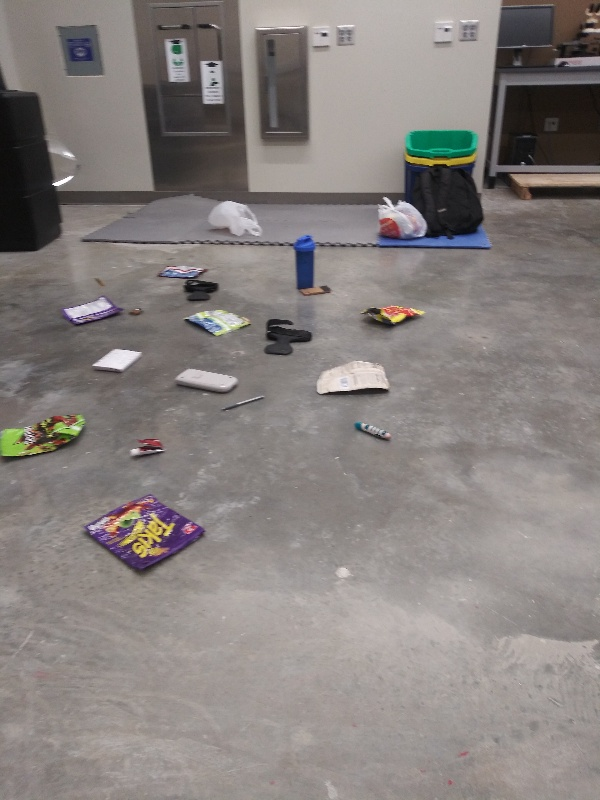bag: (81, 493, 211, 573), (1, 408, 89, 466), (309, 357, 395, 400), (183, 306, 256, 341), (58, 293, 125, 328), (352, 301, 431, 329), (152, 261, 212, 279)
